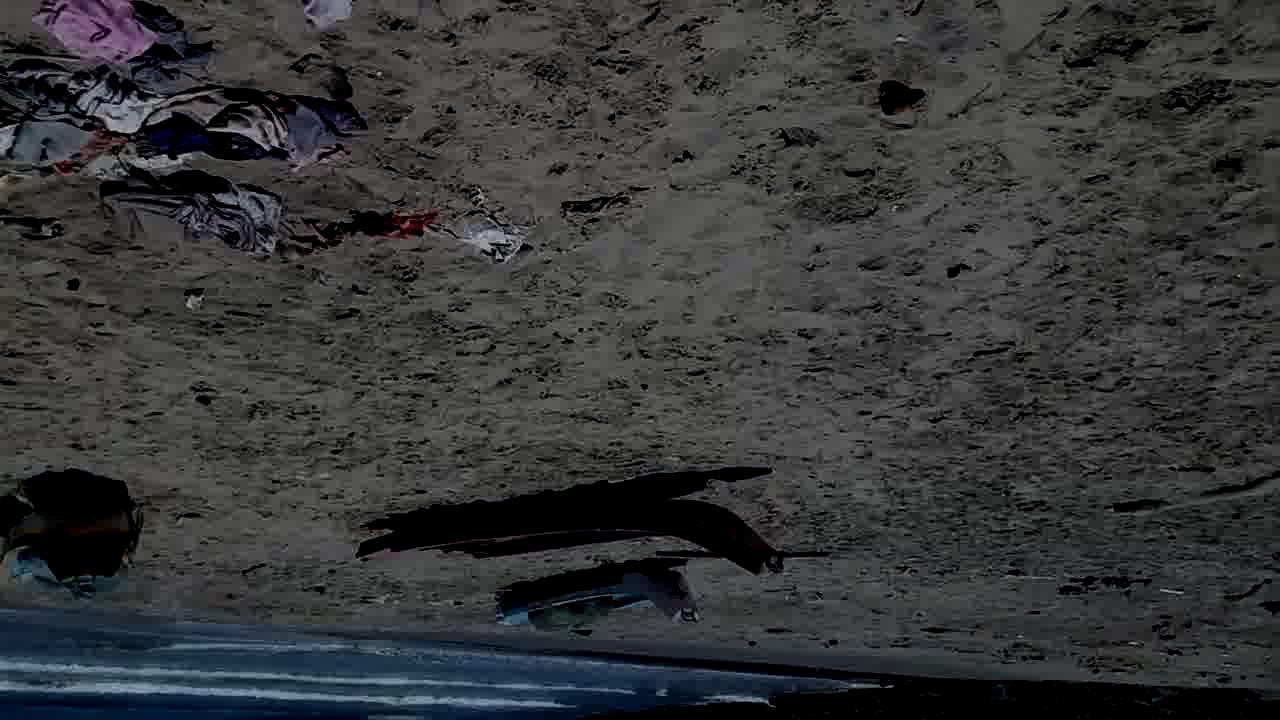large collection of objects: (356, 494, 788, 582), (2, 472, 144, 604), (494, 569, 697, 635)
obj: (5, 0, 444, 270), (444, 195, 528, 266), (558, 193, 640, 253), (1055, 572, 1161, 606), (8, 216, 76, 255), (872, 80, 928, 119), (178, 284, 212, 322), (302, 6, 351, 31)
sand/background: (0, 602, 1279, 719)
